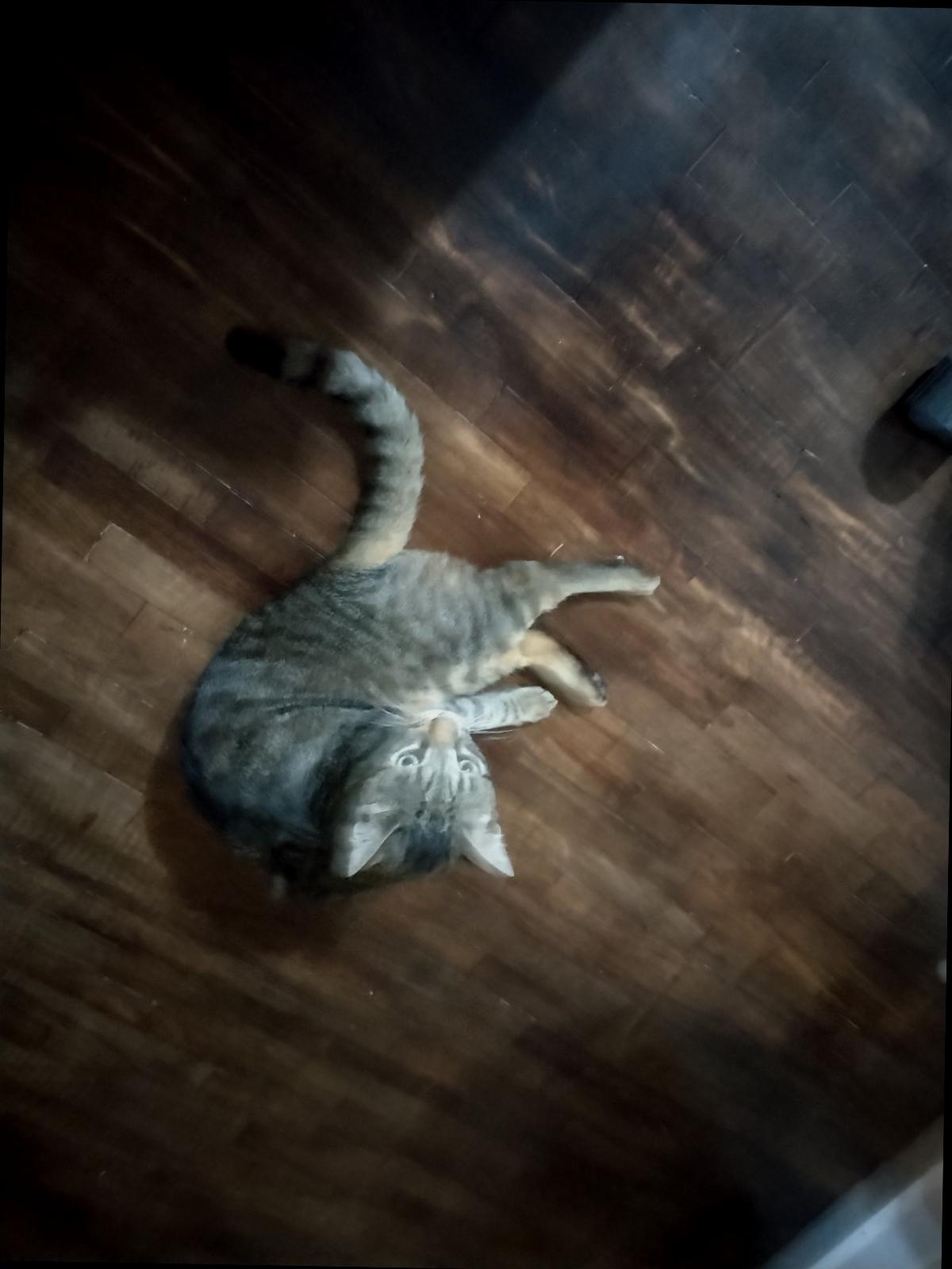macka: (183, 328, 665, 907)
